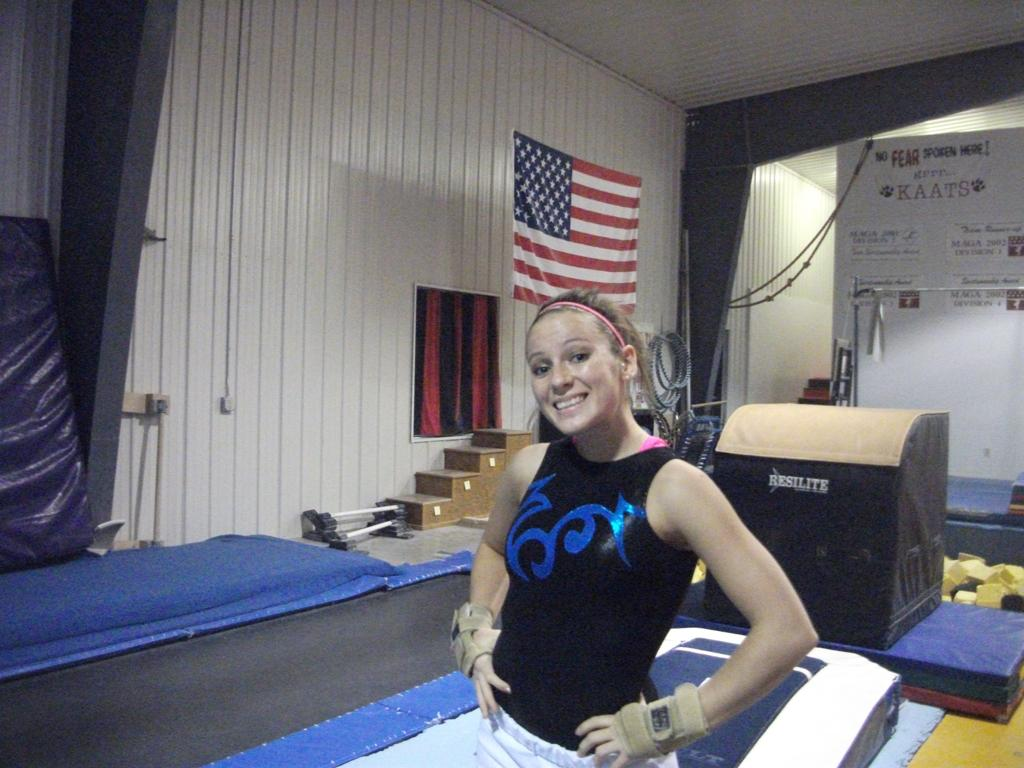face: (526, 316, 614, 434)
